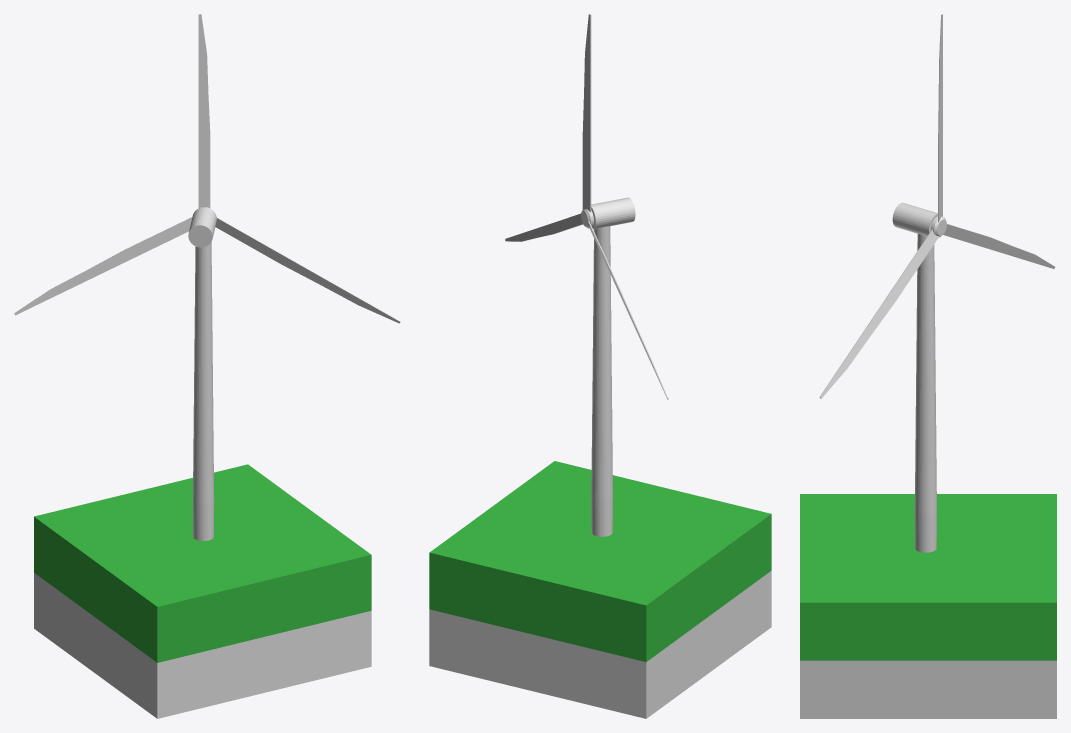
File: windtile.fbx
3 views of the same model, side by side, from view 1: azimuth 30°, elevation 25°; view 2: azimuth 150°, elevation 25°; view 3: azimuth 270°, elevation 25° (orthographic). The views are drawn at different scales.
Parts seen in each view (by area): view 1: Base, Cylinder.002, Cylinder, Cylinder.001; view 2: Base, Cylinder, Cylinder.002, Cylinder.001; view 3: Base, Cylinder, Cylinder.002, Cylinder.001.
Boxes of the visible parts, left/top/right/bottom form: Base: left=34, top=464, right=371, bottom=718; Cylinder.002: left=14, top=14, right=400, bottom=323; Cylinder: left=193, top=242, right=214, bottom=540; Cylinder.001: left=188, top=207, right=216, bottom=247; Base: left=429, top=461, right=771, bottom=718; Cylinder: left=591, top=226, right=612, bottom=536; Cylinder.002: left=505, top=14, right=668, bottom=399; Cylinder.001: left=591, top=197, right=635, bottom=229; Base: left=800, top=494, right=1056, bottom=718; Cylinder: left=914, top=234, right=936, bottom=552; Cylinder.002: left=819, top=14, right=1055, bottom=398; Cylinder.001: left=892, top=202, right=937, bottom=236.
Bounding box in the file's own units: 128 × 280 × 100.
